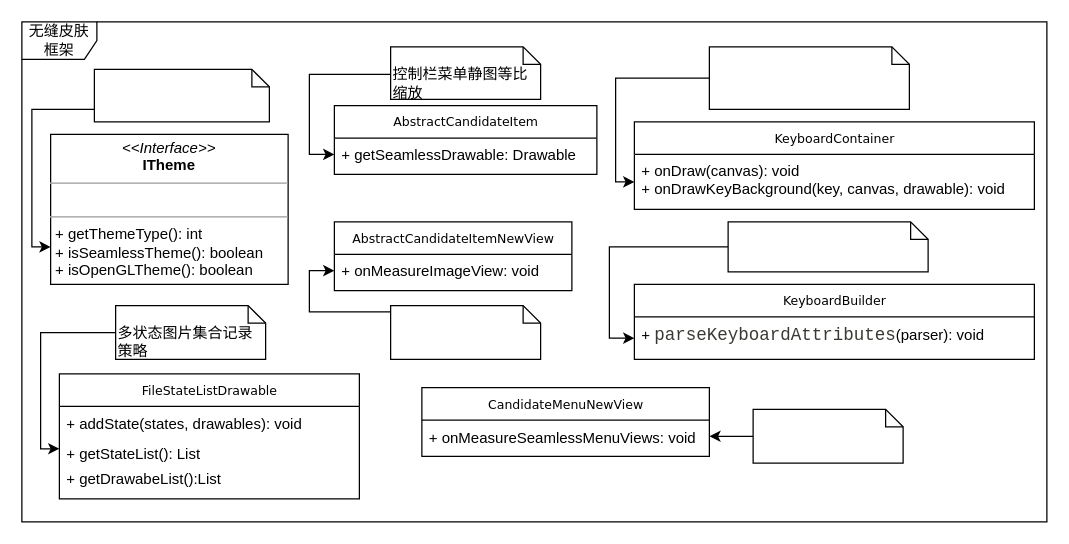
Image size: 1069x544. Some labels were removed from this diagram. Each missing label, with the centre of its shape:
"基于主题分策略切面加载皮肤框架" goes at (x=181, y=95).
"控制栏菜单动图等比缩放" goes at (x=465, y=331).
"控制栏菜单间距调整" goes at (x=827, y=435).
"无缝皮肤框架无缝处理" goes at (x=827, y=246).
"键盘按键绘制区域大背景和单按键等比缩放" goes at (x=808, y=77).
